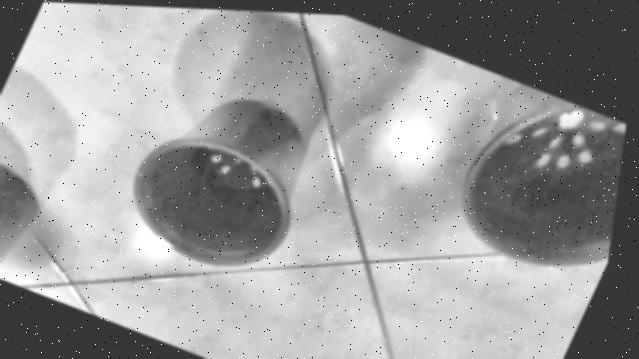pot: (461, 82, 626, 264), (133, 98, 305, 264), (0, 163, 36, 257)
